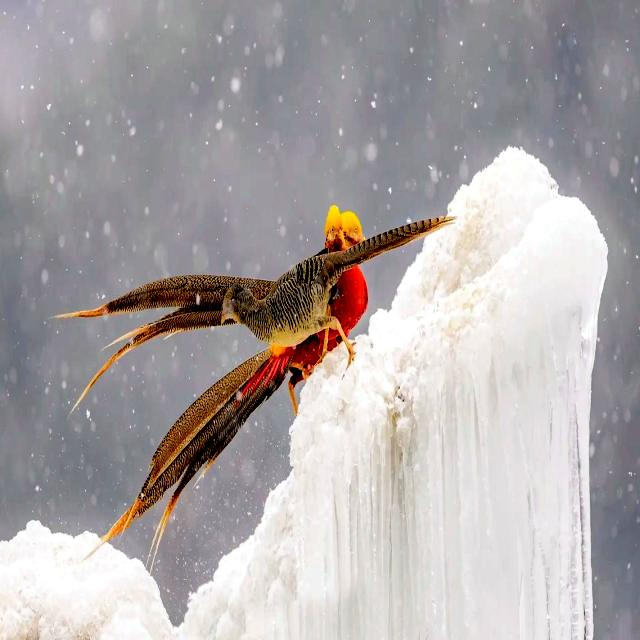Chrysolophus pictus feather: (100, 350, 292, 573), (51, 275, 273, 413), (335, 216, 456, 268)
